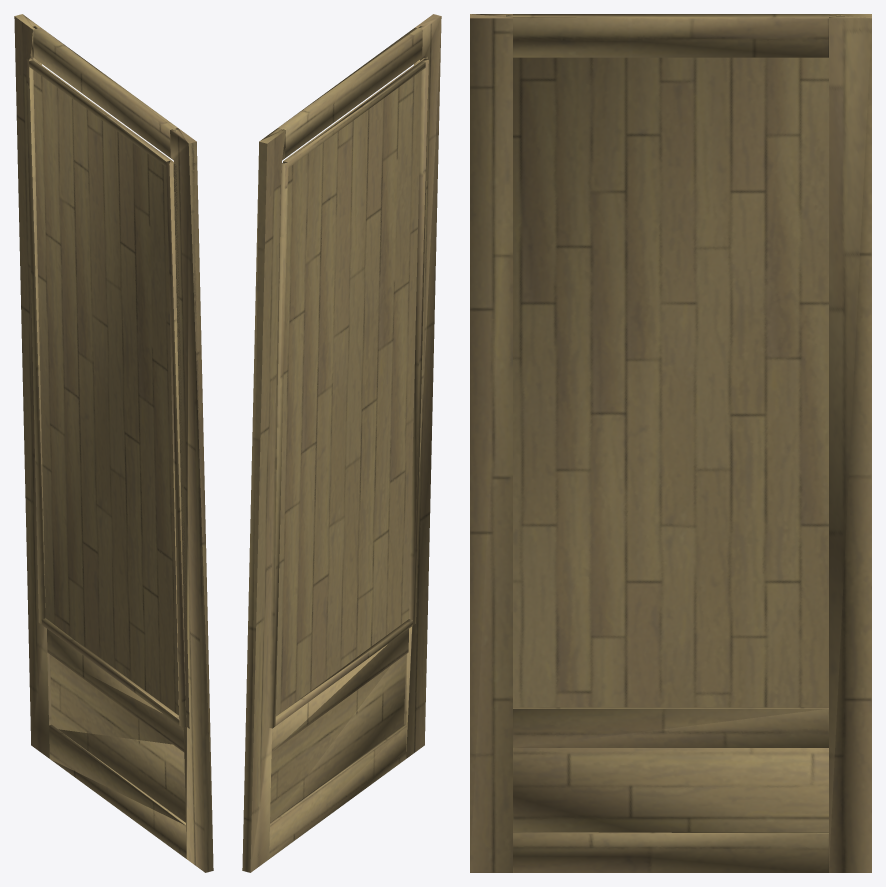
3 views of the same model, side by side, from view 1: azimuth 30°, elevation 25°; view 2: azimuth 150°, elevation 25°; view 3: azimuth 270°, elevation 25° (orthographic). The views are drawn at different scales.
Parts seen in each view (by area): view 1: visuals.001; view 2: visuals.001; view 3: visuals.001.
Part boxes in pixels (x1,y1,x2,y2): visuals.001: (14, 14, 213, 872); visuals.001: (242, 14, 441, 872); visuals.001: (470, 14, 871, 872).
Bounding box in the file's own units: 0.0292 × 0.7274 × 0.3134.
Materials: 1 (1 with a texture image).
